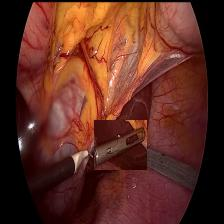Grasper: (93, 119, 146, 168)
Hook: (70, 137, 94, 178)
